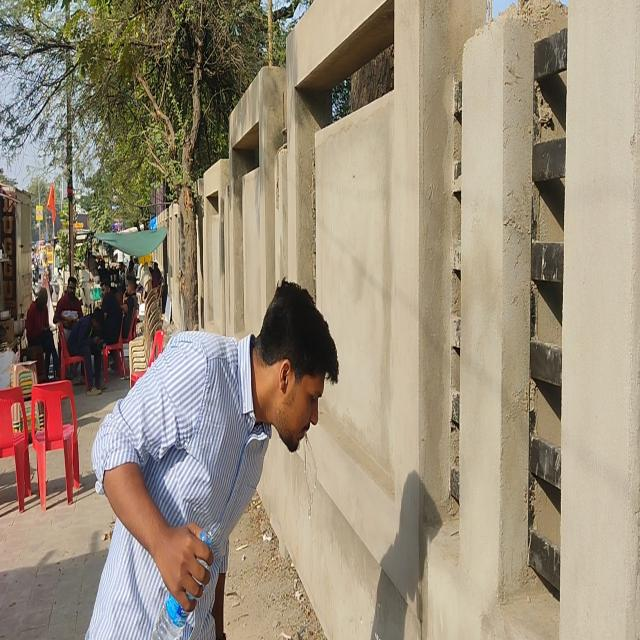spit: (262, 295, 342, 539)
